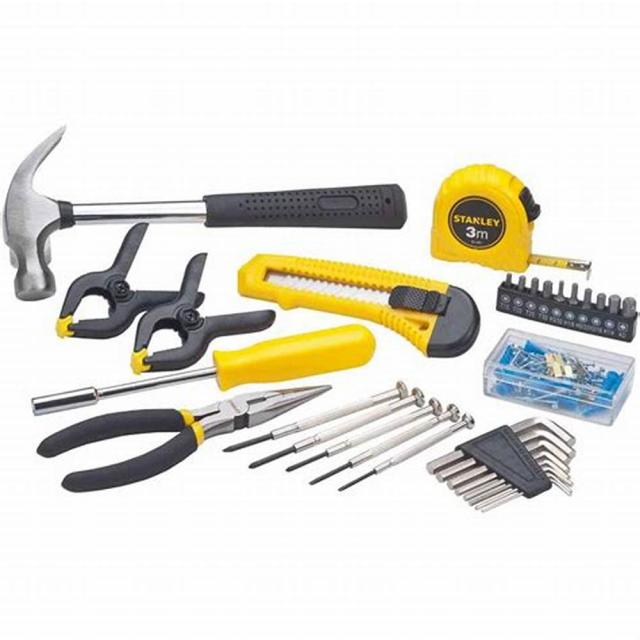Screwdriver: (32, 325, 375, 415)
